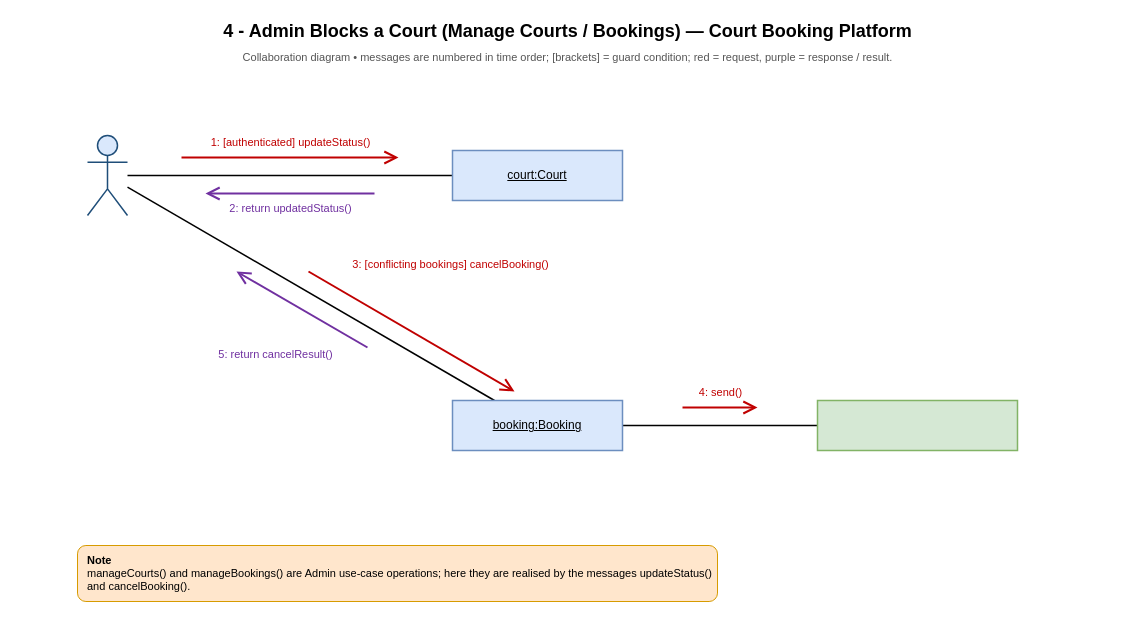
This 1134x619 diagram has some shape labels left out. Here are the shapes that lost their labels. From the top down, the centre of each, then its label:
pixel 107 175: admin:Admin
pixel 917 425: notification:Notification
